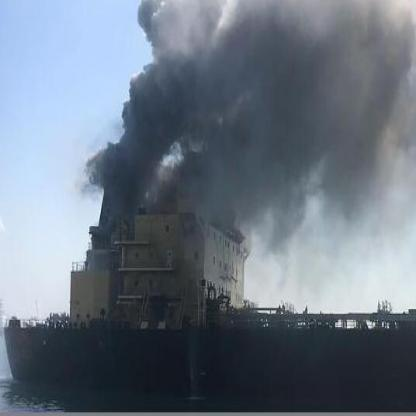smoke: (122, 0, 414, 134), (96, 136, 414, 202), (248, 206, 408, 240)
